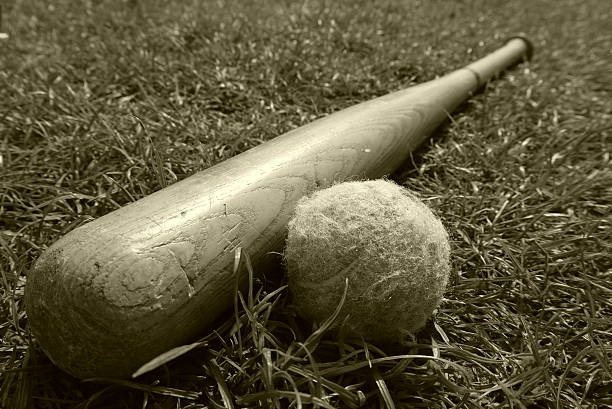bita: (33, 39, 527, 374)
